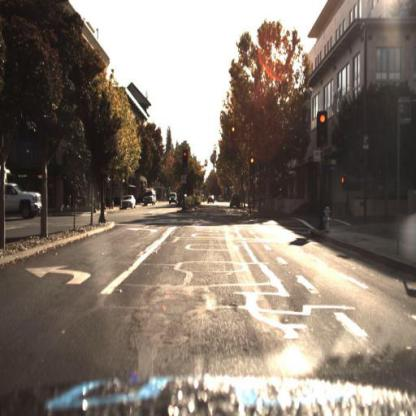car: (3, 163, 45, 229), (120, 198, 137, 213), (232, 191, 244, 211), (143, 189, 157, 205), (170, 191, 178, 206)
trafficLight: (229, 125, 236, 141)
trafficLight-Red: (319, 111, 329, 141)
trafficLight-RedLeft: (183, 149, 190, 165)
trafficLight-Yellow: (250, 152, 257, 171)
